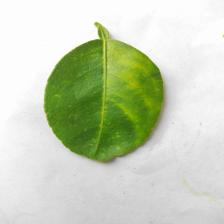greening: (98, 41, 170, 137)
